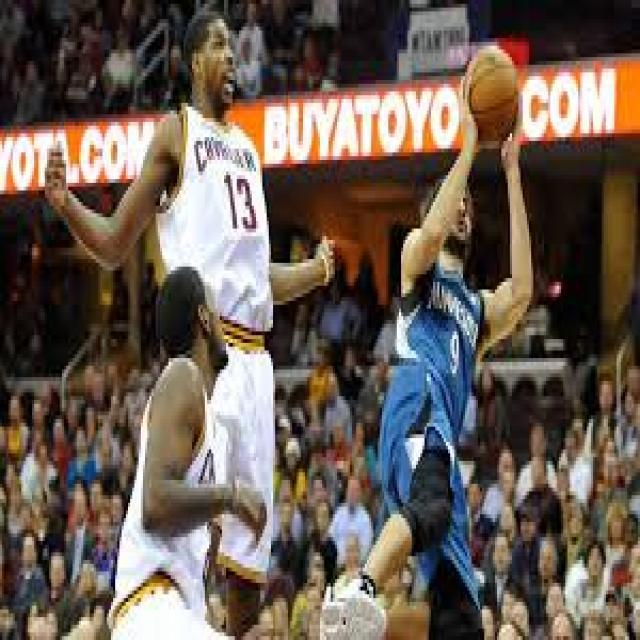rim: (467, 46, 521, 144)
